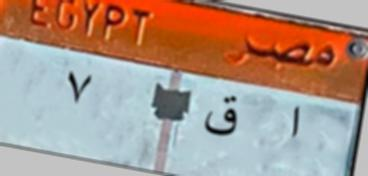7: (51, 70, 101, 109)
alif: (274, 99, 304, 147)
qaaf: (202, 93, 244, 148)
